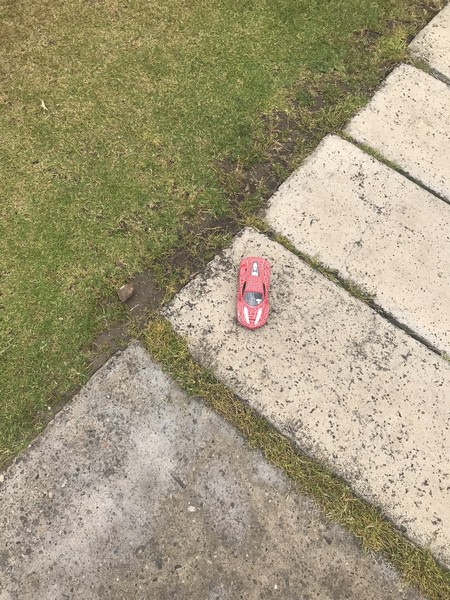RC: (233, 255, 275, 329)
